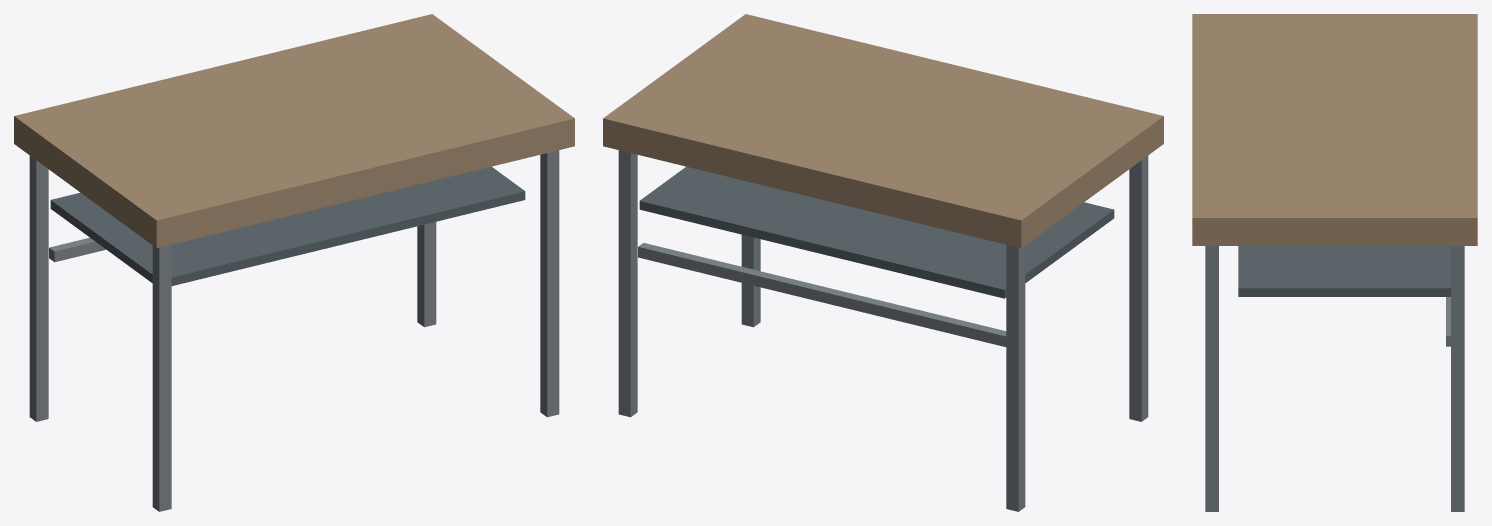
File: CLS-003.glb
The picture shows the model from 3 angles, left to right: view 1: azimuth 30°, elevation 25°; view 2: azimuth 150°, elevation 25°; view 3: azimuth 270°, elevation 25°; orthographic projection.
Visible parts, largest first — view 1: 000_Wood_desk_top, 006_Shelf_beneath_top, 001_Steel_frame, 003_Steel_frame, 002_Steel_frame, 004_Steel_frame, 005_Rear_brace; view 2: 000_Wood_desk_top, 006_Shelf_beneath_top, 005_Rear_brace, 002_Steel_frame, 004_Steel_frame, 001_Steel_frame, 003_Steel_frame; view 3: 000_Wood_desk_top, 006_Shelf_beneath_top, 003_Steel_frame, 004_Steel_frame.
Boxes of the visible parts, x1,y1,x2,y2 form: 000_Wood_desk_top: (14,14,574,248); 006_Shelf_beneath_top: (50,166,525,285); 001_Steel_frame: (152,245,171,511); 003_Steel_frame: (540,150,559,417); 002_Steel_frame: (29,155,48,421); 004_Steel_frame: (417,222,436,327); 005_Rear_brace: (49,237,105,262); 000_Wood_desk_top: (603,14,1163,248); 006_Shelf_beneath_top: (639,166,1114,298); 005_Rear_brace: (638,243,1006,346); 002_Steel_frame: (1006,245,1025,511); 004_Steel_frame: (618,150,637,417); 001_Steel_frame: (1129,155,1148,421); 003_Steel_frame: (741,234,760,327); 000_Wood_desk_top: (1192,14,1477,245); 006_Shelf_beneath_top: (1238,246,1450,296); 003_Steel_frame: (1205,246,1218,511); 004_Steel_frame: (1451,246,1464,511).
Size of the model in its own units: 1.1 by 0.75 by 0.65.
